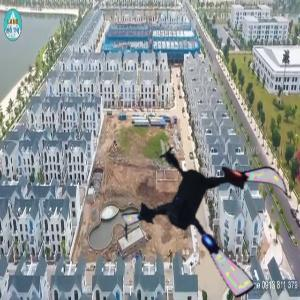drone: (126, 126, 300, 300)
